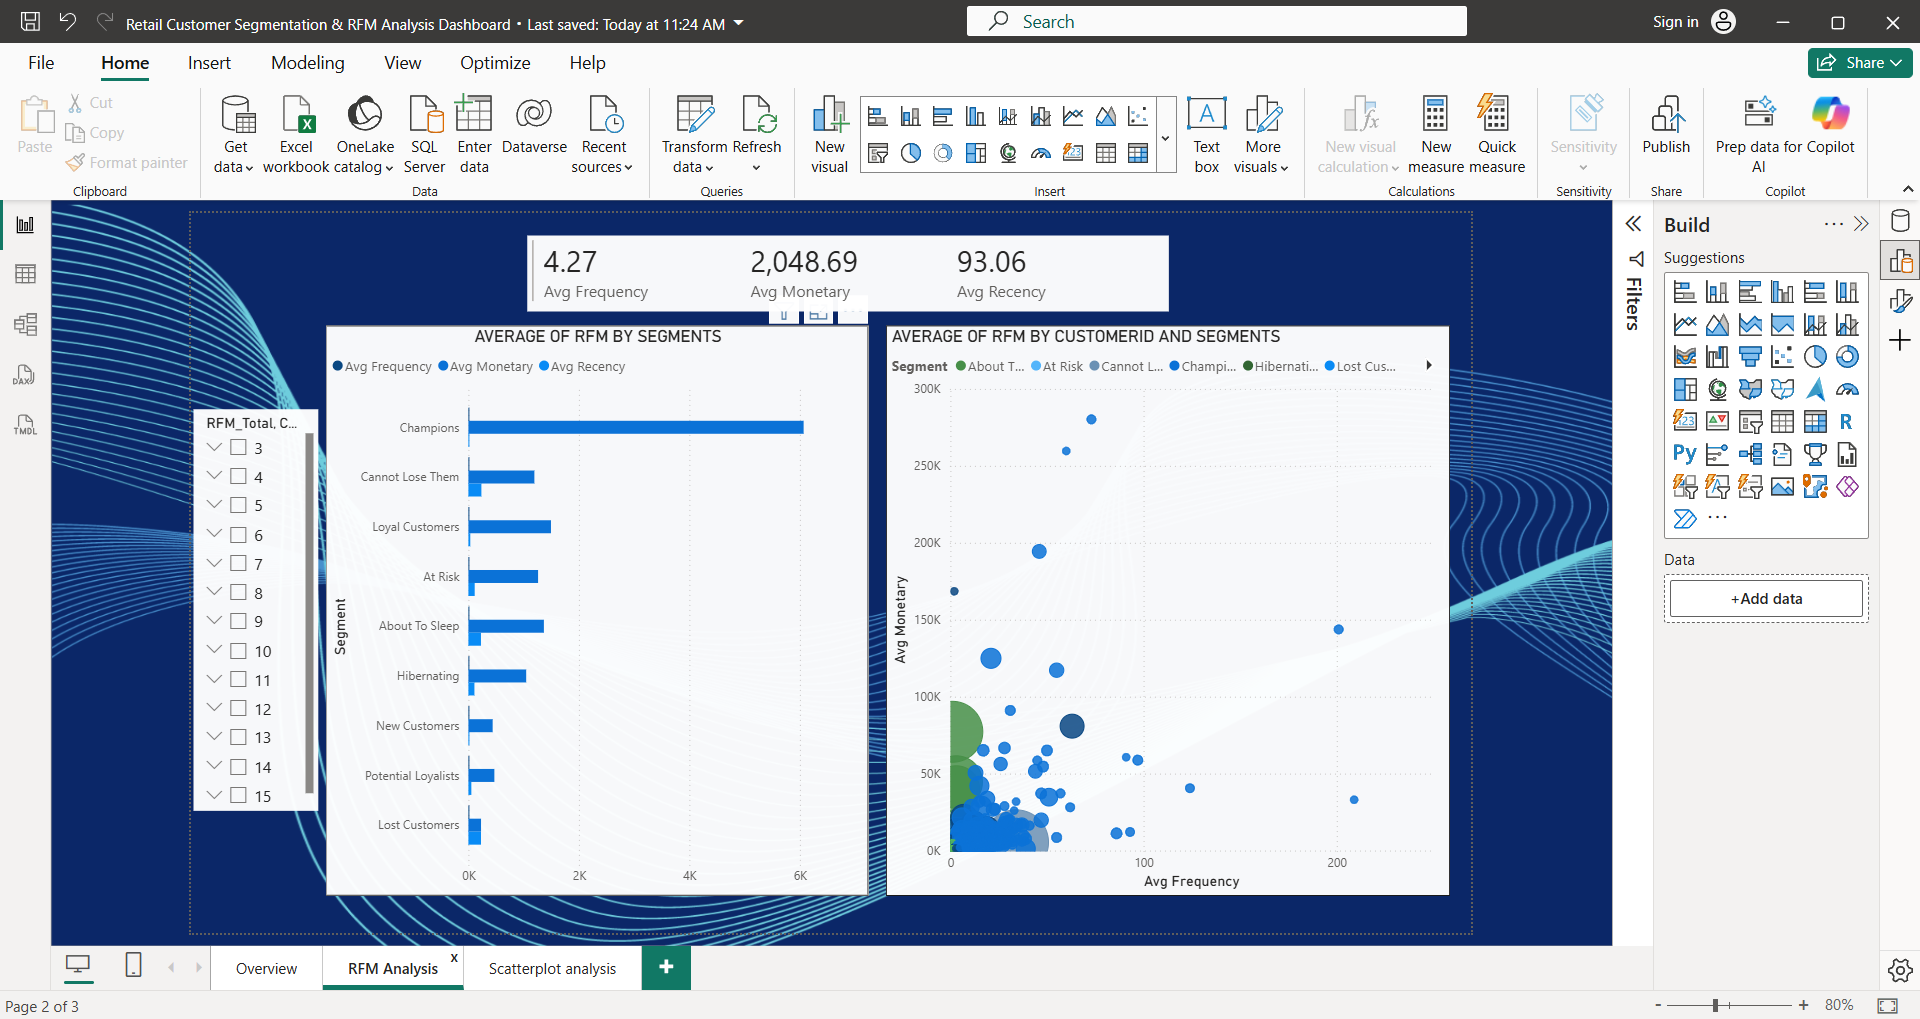

What the dashboard file says about the page in this screenshot:
{"tool":"powerbi","page":{"name":"RFM Analysis","canvas":[1280,720],"ordinal":1},"visuals":[{"type":"clusteredBarChart","title":"AVERAGE OF RFM BY SEGMENTS","fields":{"Category":["rfm_results.Segment"],"Y":["rfm_results.Avg Frequency","rfm_results.Avg Monetary","rfm_results.Avg Recency"]},"box":[135,112.5,542.5,570],"z":0},{"type":"multiRowCard","fields":{"Values":["rfm_results.Avg Frequency","rfm_results.Avg Monetary","rfm_results.Avg Recency"]},"box":[336.2,22.5,641.2,76.2],"z":1000},{"type":"scatterChart","title":"AVERAGE OF RFM BY CUSTOMERID AND SEGMENTS","fields":{"Category":["rfm_results.CustomerID"],"X":["rfm_results.Avg Frequency"],"Y":["rfm_results.Avg Monetary"],"Series":["rfm_results.Segment"],"Size":["rfm_results.Avg Recency"]},"box":[695,112.5,563.8,570],"z":2000},{"type":"slicer","fields":{"Values":["rfm_results.RFM_Total","rfm_results.Cluster","rfm_results.Segment"]},"box":[2.5,196.2,125,401.2],"z":3000}]}

Visuals, with their boxes on the page's 1280x720 design canvas (x1, y1, x2, y2). These are canvas units, not pixel positions in the 1920x1019 screenshot, which may show the page scaled, cropped or inside an application window:
"AVERAGE OF RFM BY SEGMENTS" clusteredBarChart: l=135, t=112, r=678, b=682
multiRowCard - rfm_results.Avg Frequency x rfm_results.Avg Monetary: l=336, t=22, r=977, b=99
"AVERAGE OF RFM BY CUSTOMERID AND SEGMENTS" scatterChart: l=695, t=112, r=1259, b=682
slicer - rfm_results.RFM_Total x rfm_results.Cluster: l=2, t=196, r=128, b=597
